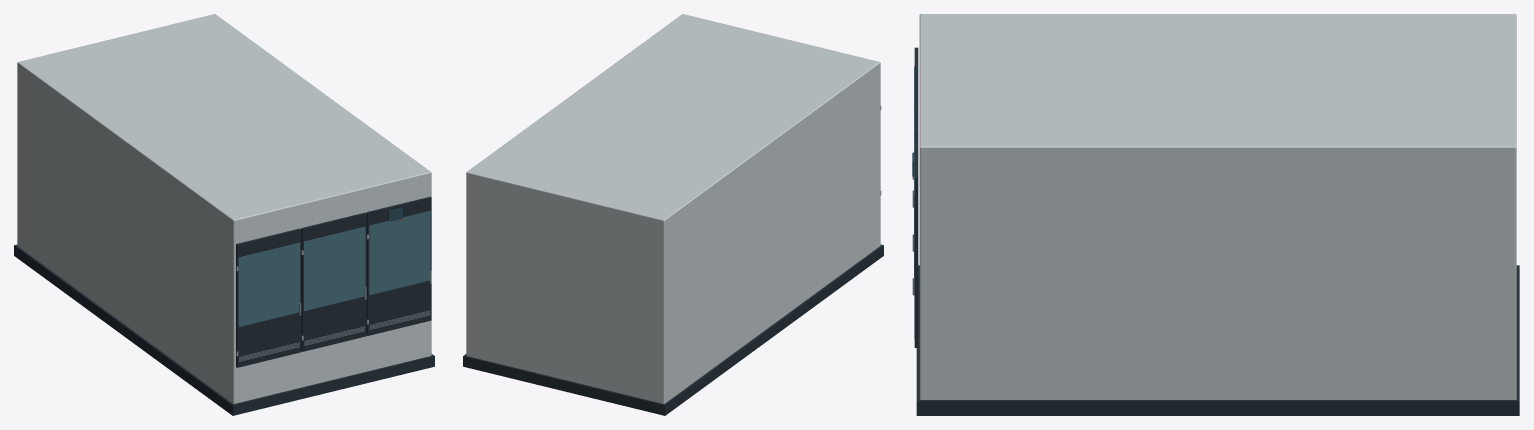
Rendered from dryer.glb.
3 views of the same model, side by side, from view 1: azimuth 30°, elevation 25°; view 2: azimuth 150°, elevation 25°; view 3: azimuth 270°, elevation 25° (orthographic). The views are drawn at different scales.
Bounding box in the file's own units: 3.2 × 2.94 × 6.04.
